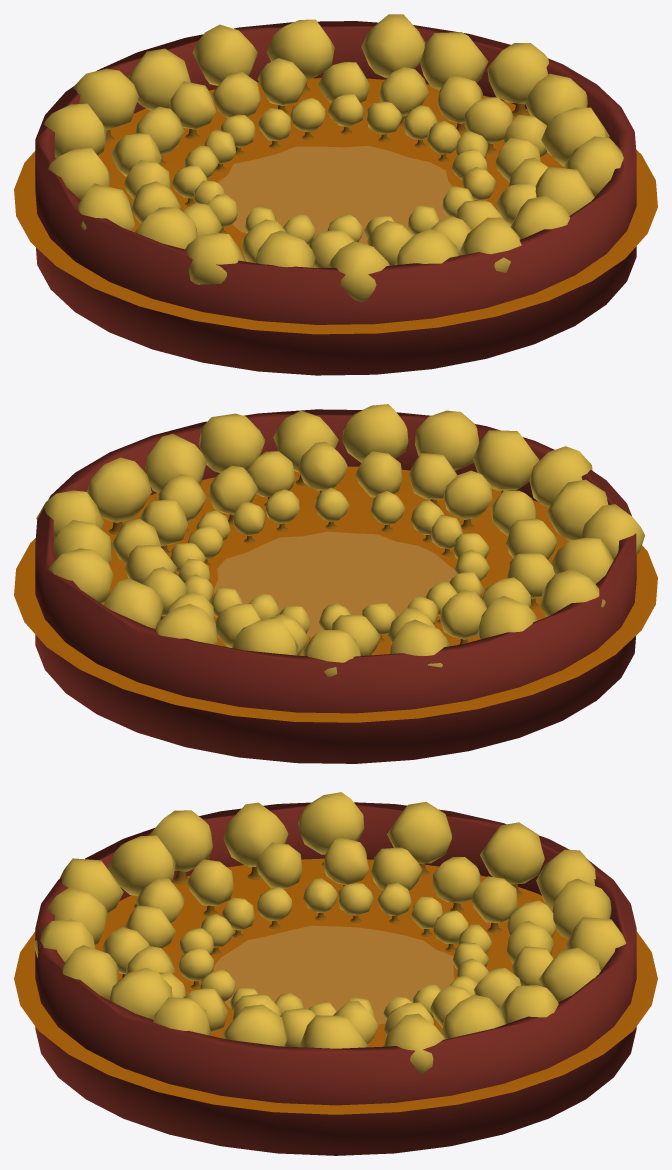
Rendered from BattleSceneSmooth.fbx.
The picture shows the model from 3 angles, top to bottom: view 1: azimuth 30°, elevation 25°; view 2: azimuth 150°, elevation 25°; view 3: azimuth 270°, elevation 25°; orthographic projection.
Parts seen in each view (by area): view 1: Trees and Wall, Ground; view 2: Trees and Wall, Ground; view 3: Trees and Wall, Ground.
Boxes of the visible parts, box(x1,y1,x2,y2) form: Trees and Wall: box(35, 14, 636, 375); Ground: box(14, 78, 657, 334); Trees and Wall: box(35, 404, 644, 763); Ground: box(14, 466, 657, 722); Trees and Wall: box(33, 792, 636, 1155); Ground: box(14, 858, 657, 1114).
Size of the model in its own units: 52432 by 10593 by 52432.
